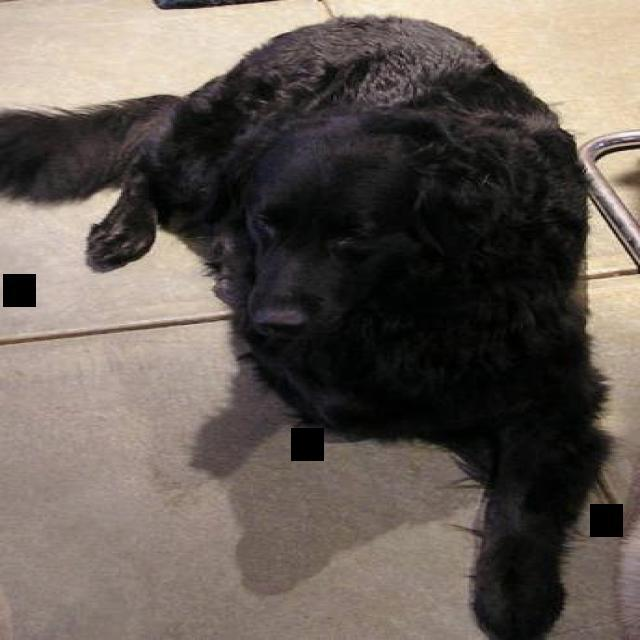adult_dog: (1, 14, 612, 640)
